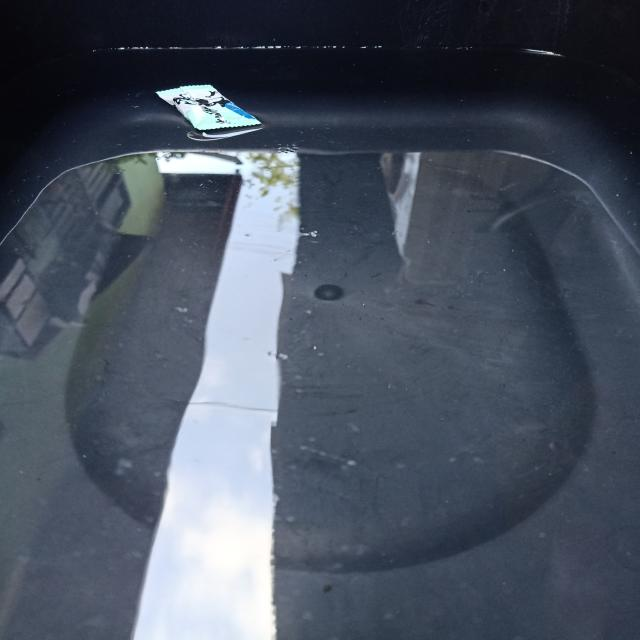Plastic Wrapper: (157, 85, 264, 139)
